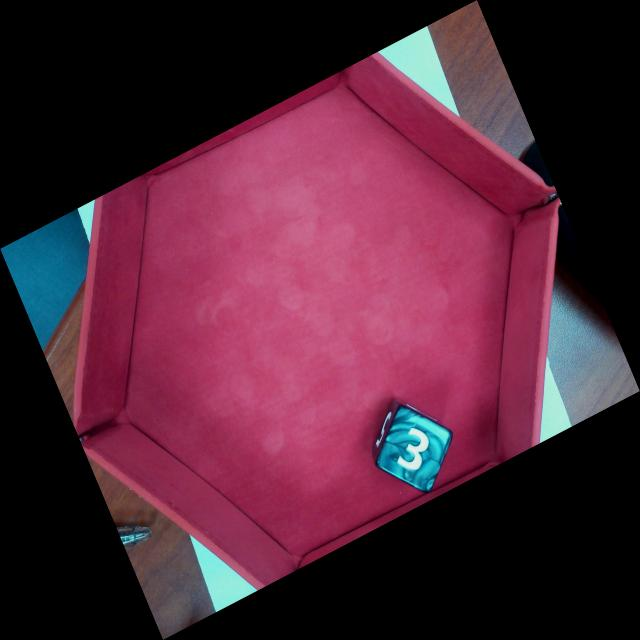dice: (383, 416, 450, 493)
